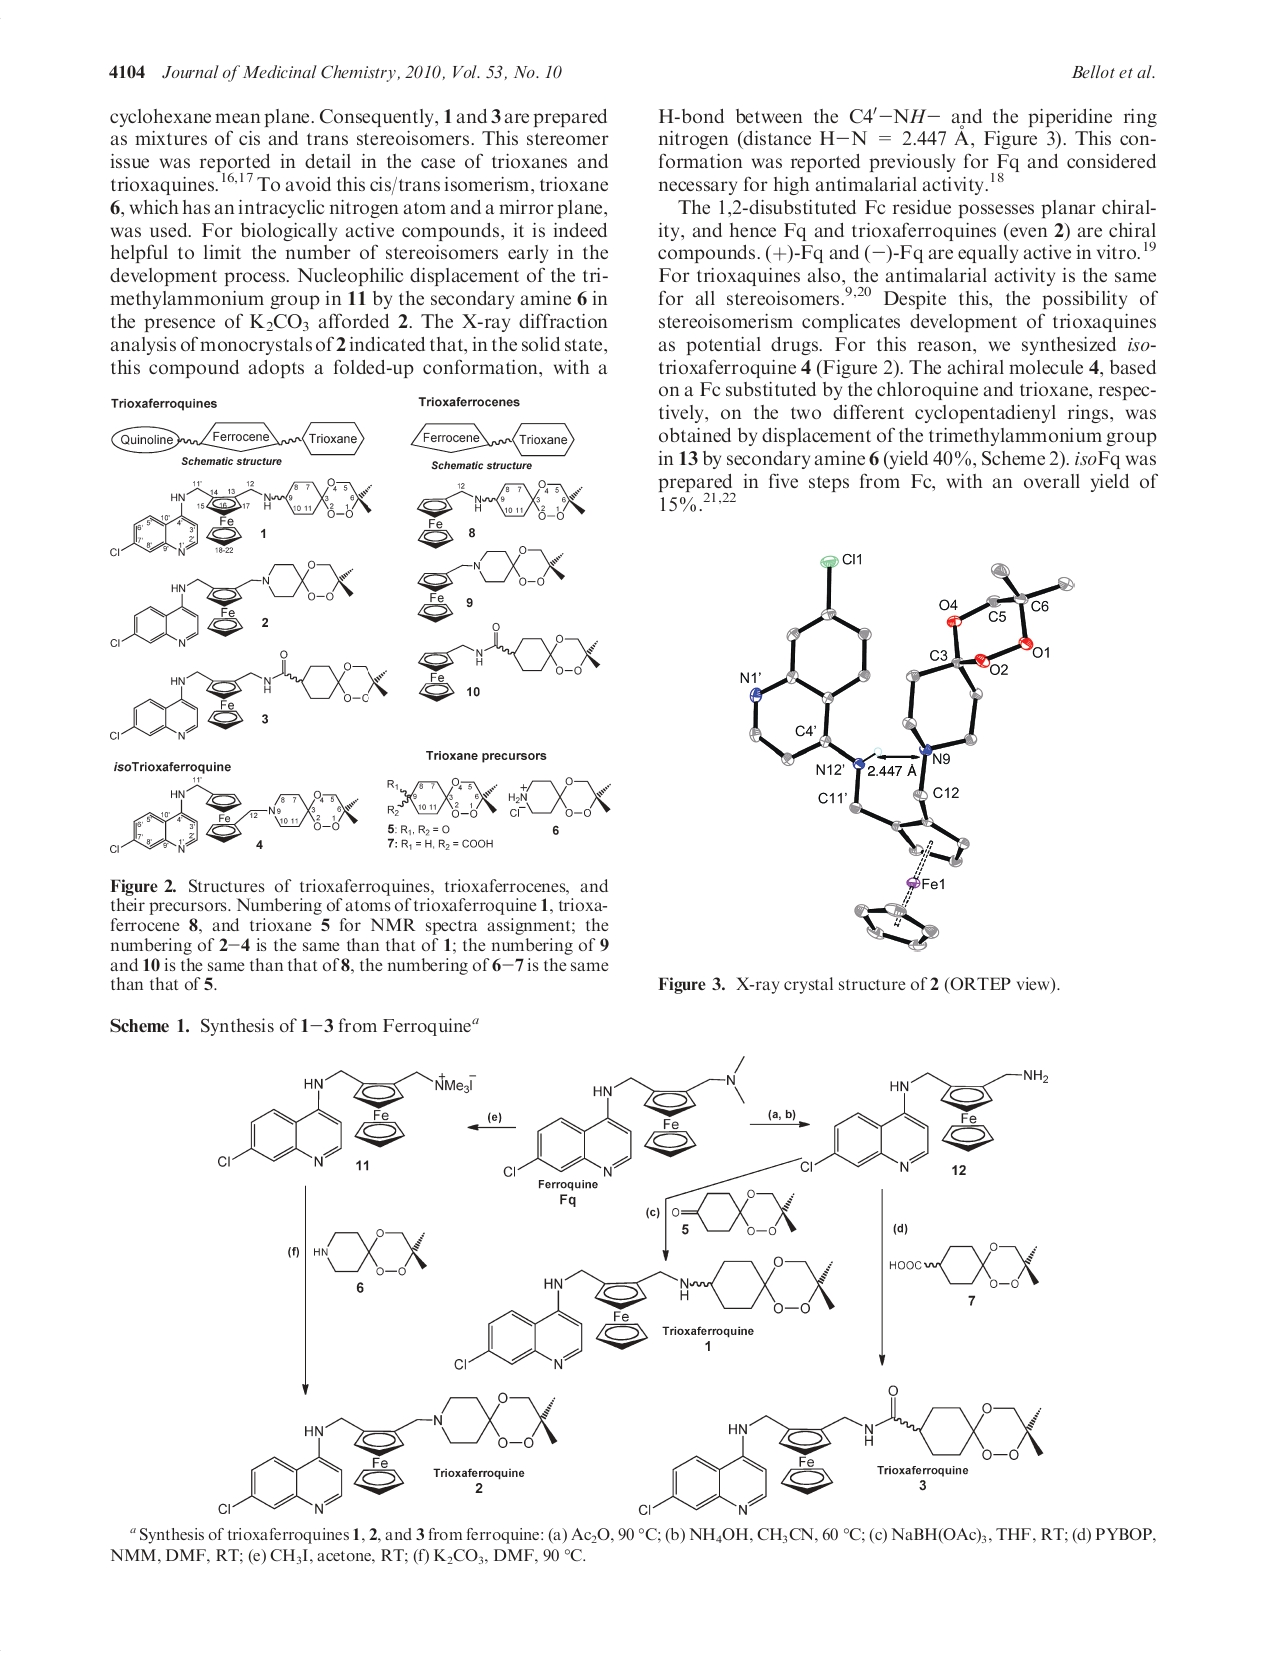exist_molecular: (737, 527, 1082, 962), (637, 1376, 1049, 1527), (213, 1386, 564, 1521), (449, 1258, 836, 1379), (206, 1053, 489, 1177), (497, 1053, 766, 1184), (793, 1057, 1059, 1180), (106, 646, 402, 753), (108, 559, 359, 660), (106, 473, 376, 564), (108, 777, 375, 867), (380, 765, 614, 852), (414, 622, 606, 705), (414, 545, 577, 629), (414, 479, 590, 555), (668, 1180, 805, 1247), (883, 1241, 1043, 1291), (289, 1223, 428, 1277)
